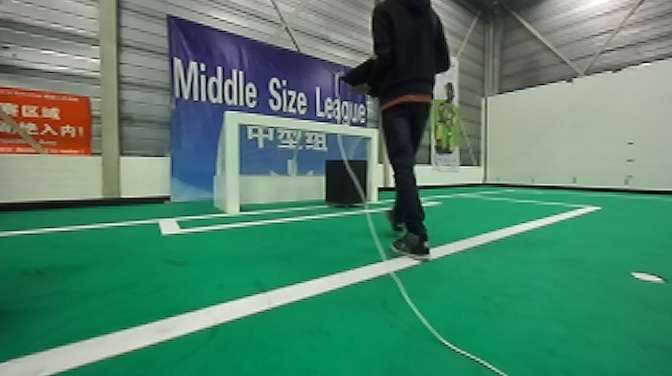goalpost: (222, 108, 243, 215), (364, 128, 381, 205)
human: (355, 2, 446, 261)
